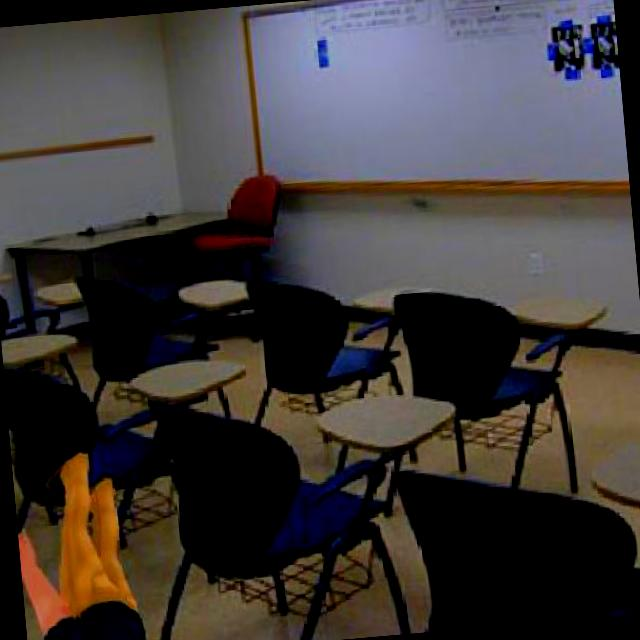Person: (11, 446, 153, 640)
